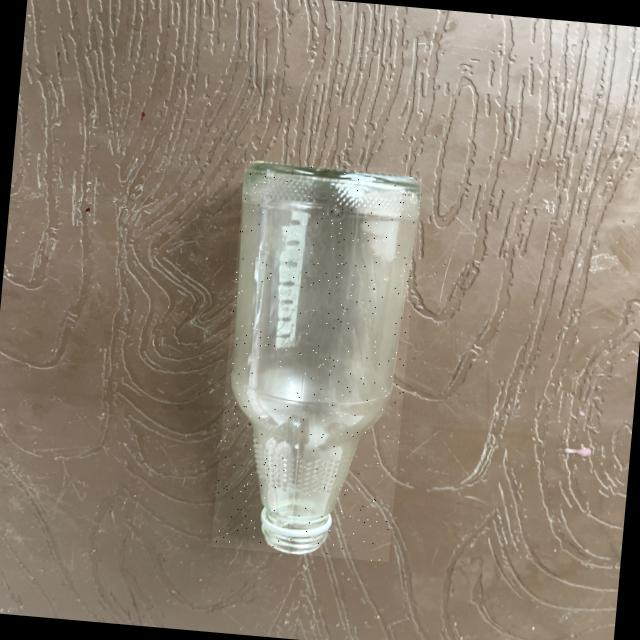Glass_Bottle: (232, 162, 420, 553)
